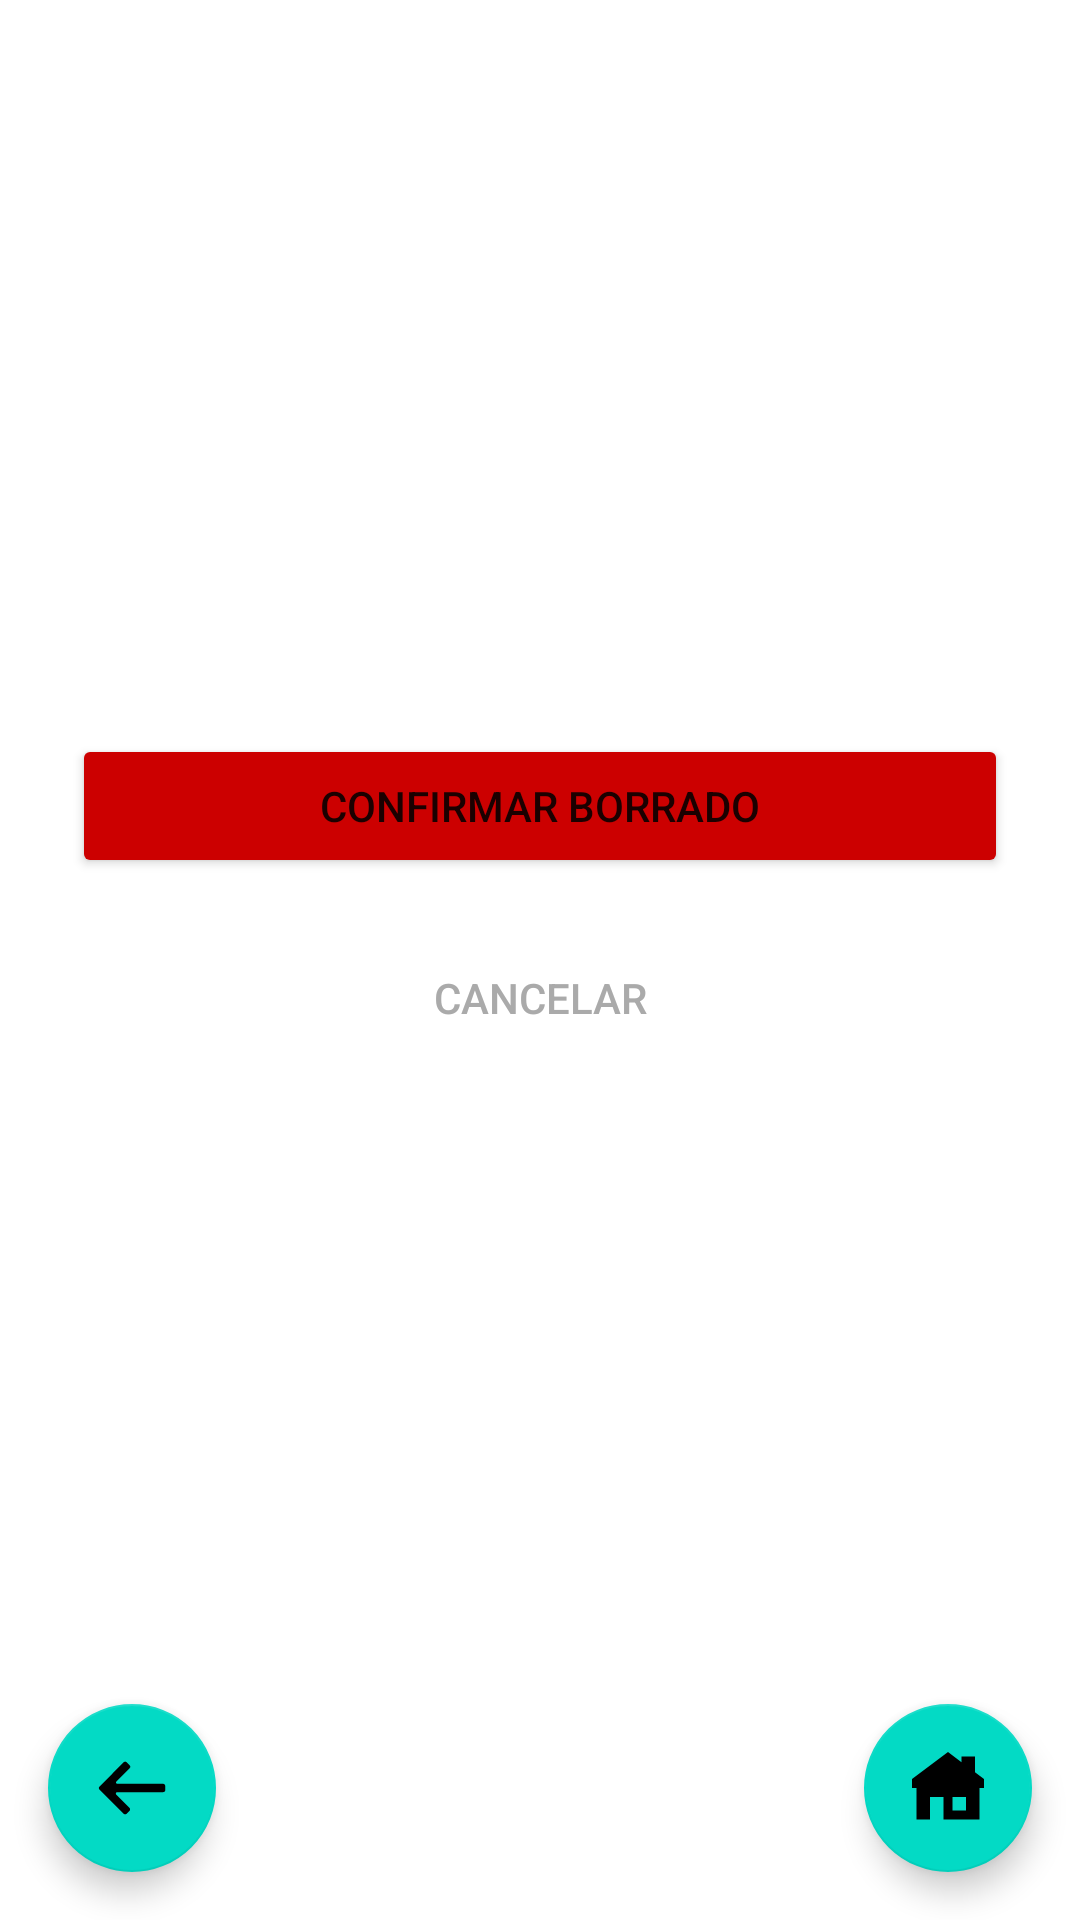

Point at icon controls on the screen. Image size 1080 × 1920, points as (x,y).
back: (132,1788)
home: (948,1788)
